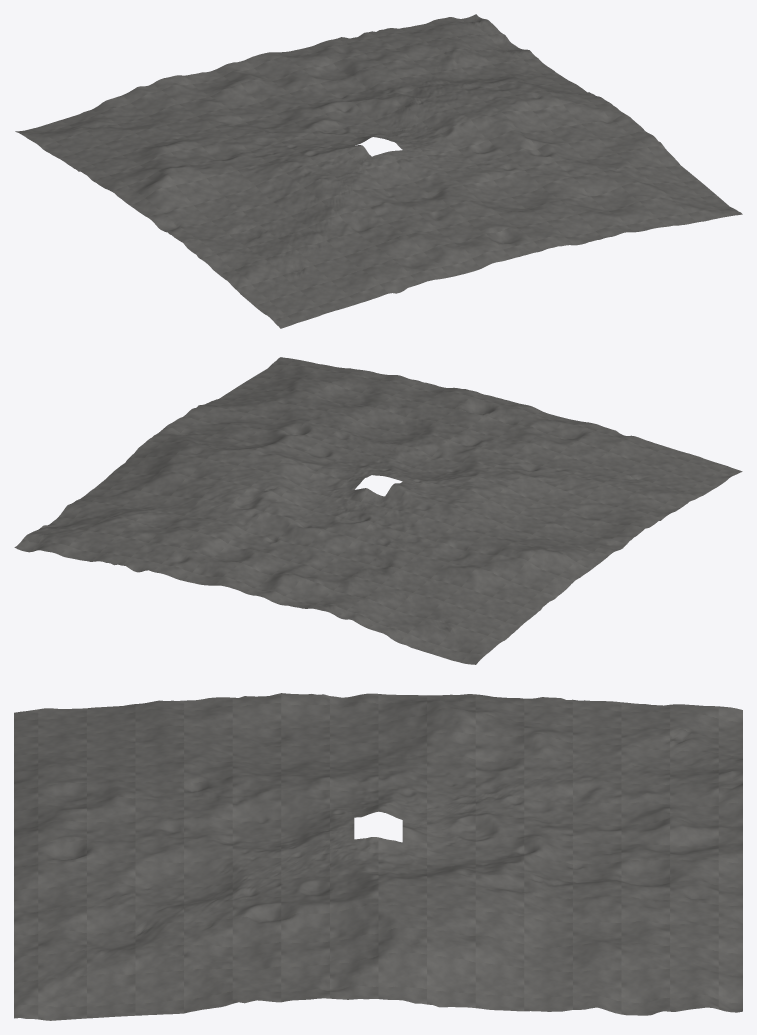
The model's file is malapert-massif_far.glb.
3 views of the same model, one above another, from view 1: azimuth 30°, elevation 25°; view 2: azimuth 150°, elevation 25°; view 3: azimuth 270°, elevation 25° (orthographic). The views are drawn at different scales.
Visible parts, largest first — view 1: FarTerrain; view 2: FarTerrain; view 3: FarTerrain.
Boxes of the visible parts, x1,y1,x2,y2 form: FarTerrain: (15,14,742,328); FarTerrain: (14,357,742,664); FarTerrain: (14,693,742,1020).
Size of the model in its own units: 300 by 20.51 by 300.
1 material, 1 textured.
